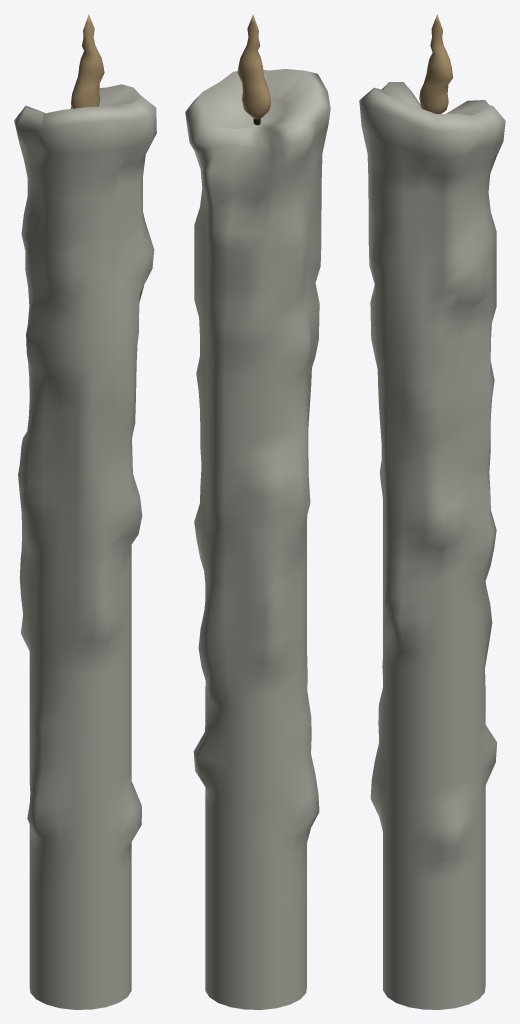
File: CandleA.fbx
The picture shows the model from 3 angles, left to right: view 1: azimuth 30°, elevation 25°; view 2: azimuth 150°, elevation 25°; view 3: azimuth 330°, elevation 25°; orthographic projection.
Visible parts, largest first — view 1: Candle; view 2: Candle; view 3: Candle.
Part boxes in pixels (box(x1,y1,x2,y2)): Candle: box(14, 14, 156, 1009); Candle: box(185, 14, 330, 1009); Candle: box(359, 14, 505, 1009).
Size of the model in its own units: 3.4 by 25.59 by 3.16.
